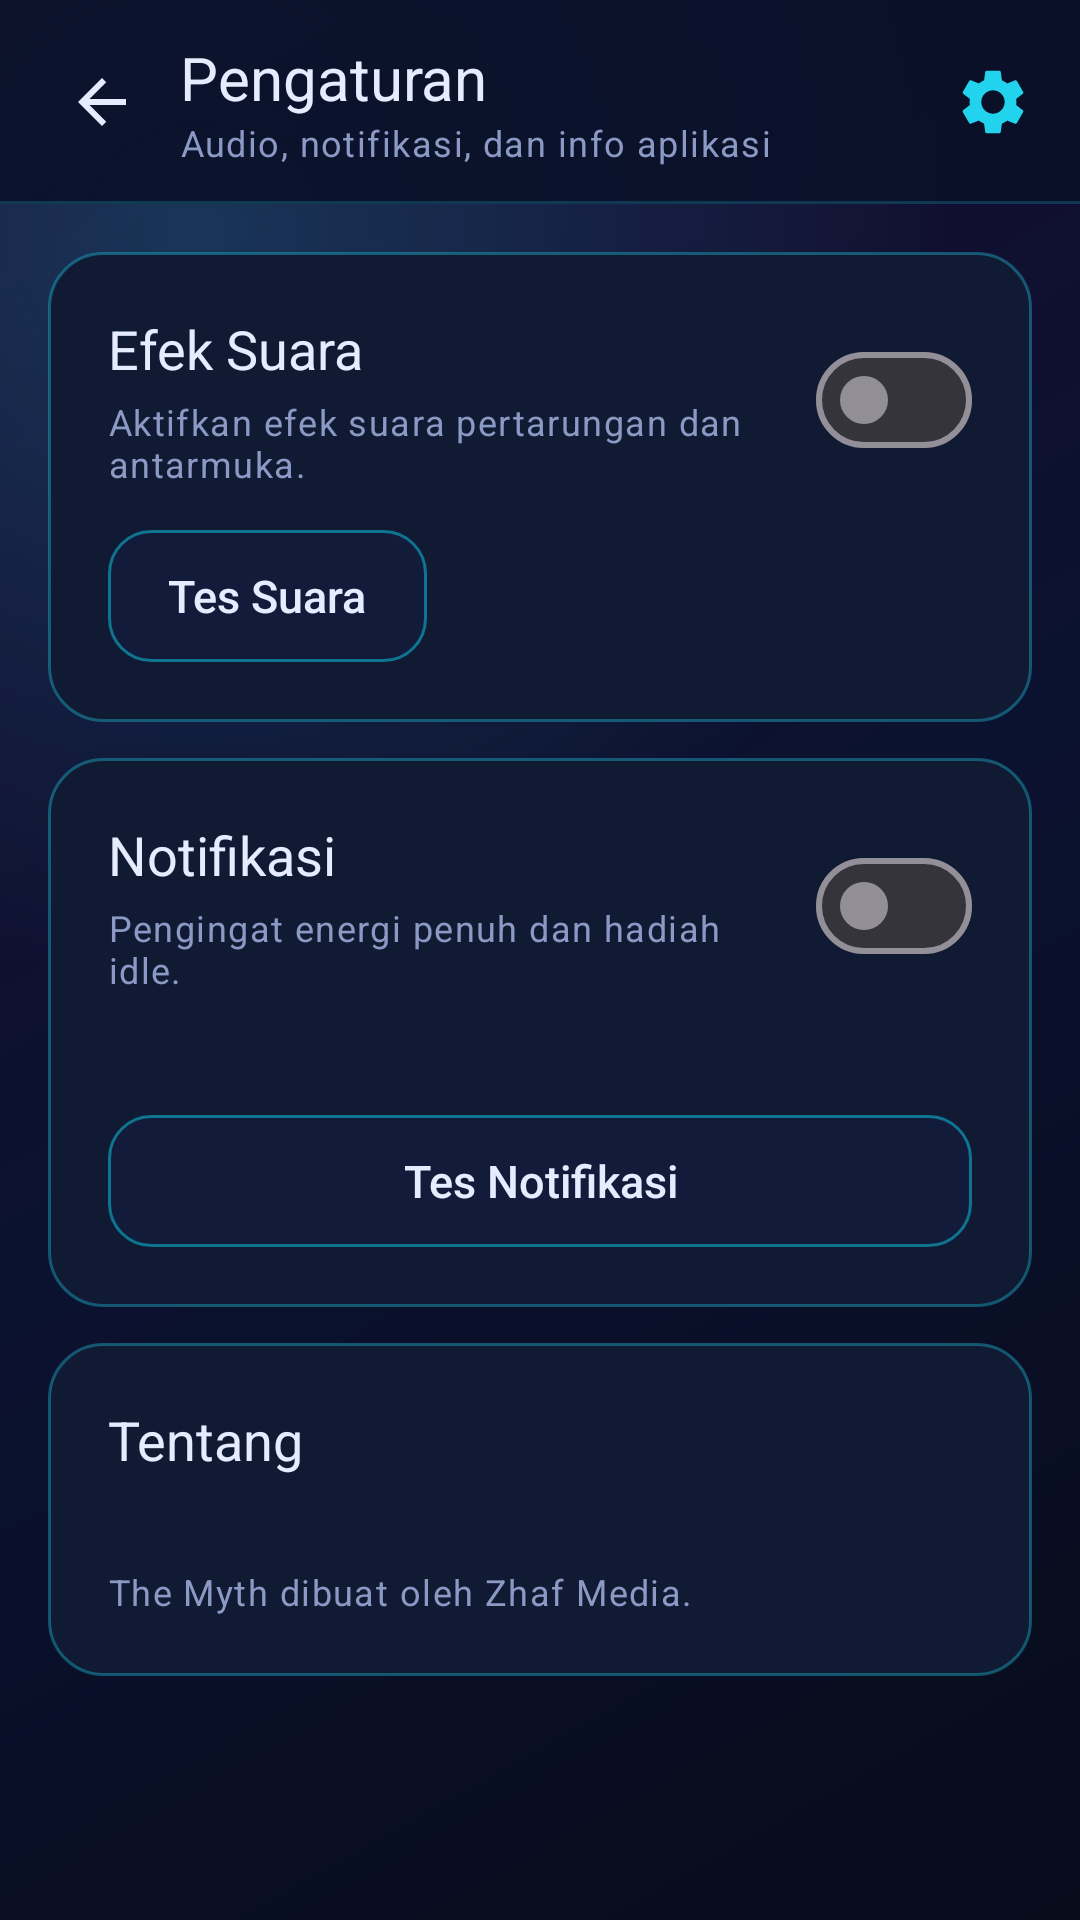

Where to tap for icons on this 1080*1920 app screen, as (x,y):
Kembali: (102,102)
settings: (993,102)
